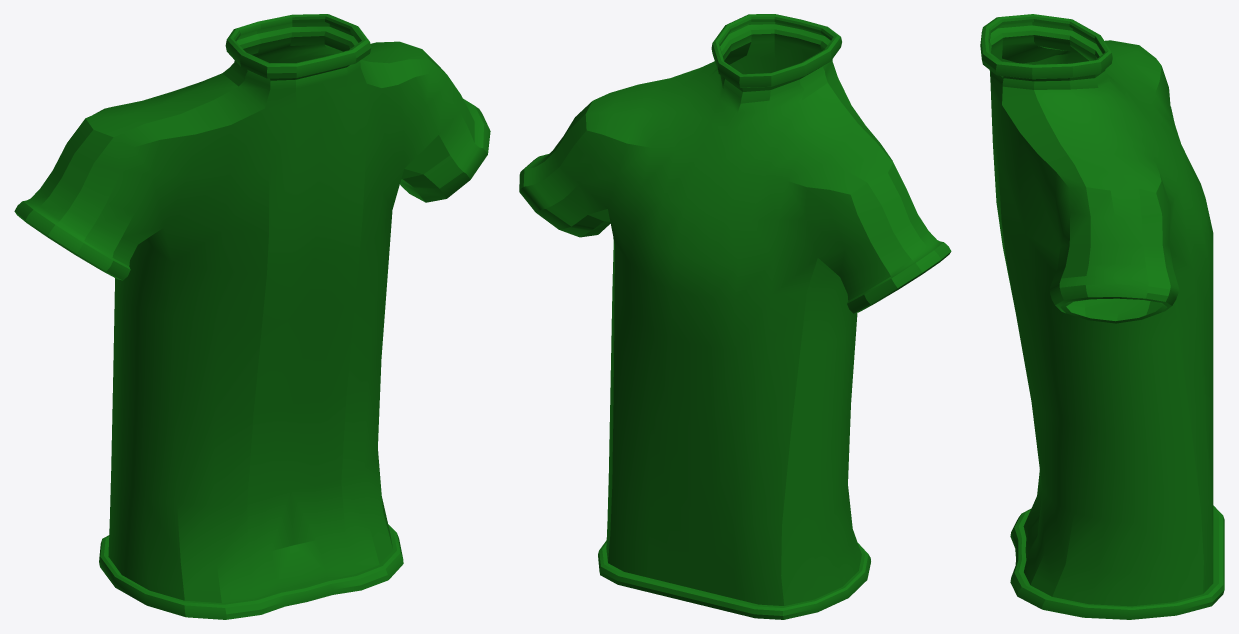
File: green tshirt.fbx
3 renders of one model, left to right at view 1: azimuth 30°, elevation 25°; view 2: azimuth 150°, elevation 25°; view 3: azimuth 270°, elevation 25°, orthographic. The views are drawn at different scales.
Parts seen in each view (by area): view 1: menino_polySurface18_menino_polySurface53_menino_polySurface; view 2: menino_polySurface18_menino_polySurface53_menino_polySurface; view 3: menino_polySurface18_menino_polySurface53_menino_polySurface.
Boxes of the visible parts, x1,y1,x2,y2 form: menino_polySurface18_menino_polySurface53_menino_polySurface: (14, 14, 490, 619); menino_polySurface18_menino_polySurface53_menino_polySurface: (519, 14, 951, 619); menino_polySurface18_menino_polySurface53_menino_polySurface: (980, 14, 1224, 619).
Bounding box in the file's own units: 41.99 × 49.06 × 20.78.
